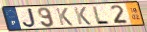2: (111, 4, 130, 25)
9: (37, 7, 56, 29)
J: (21, 8, 37, 29)
K: (55, 7, 75, 27), (73, 7, 93, 26)
L: (91, 6, 111, 25)
